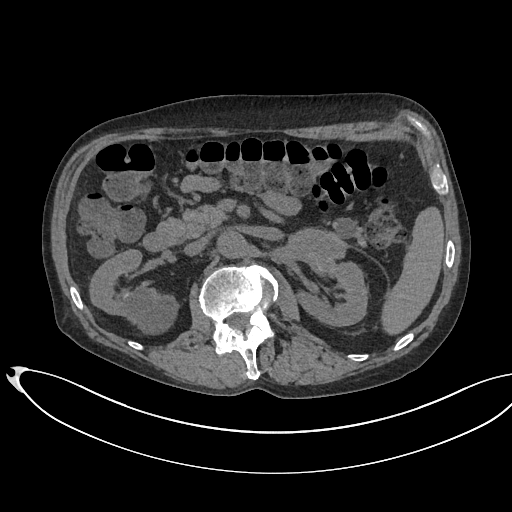Lesion: (284, 227, 350, 259)
